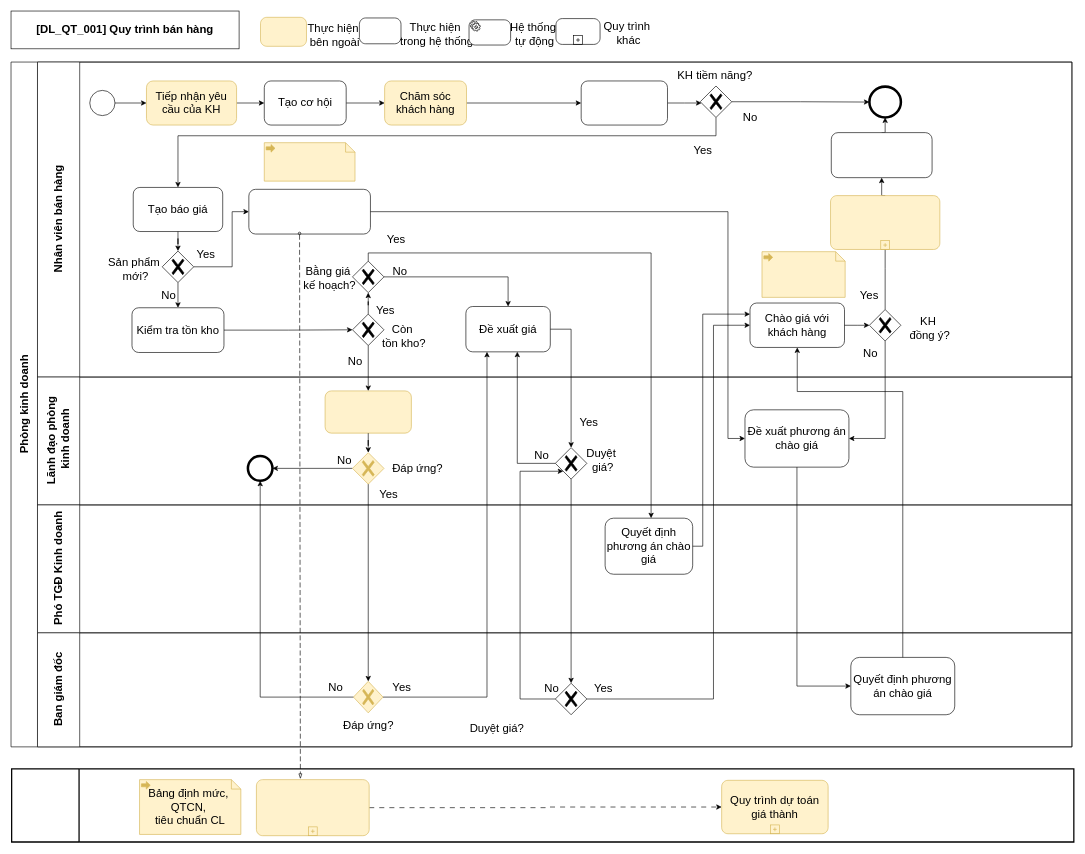
Image size: 1085x854. Some labels were removed from this diagram. Here are the shapes that lost their labels. From the top down, the box of each, then its label:
(581, 80, 667, 125): Ghi nhận kết quả chăm sóc
(264, 142, 355, 181): Phiếu yêu cầu
(831, 132, 932, 178): Xác nhận đơn bán
(248, 189, 370, 234): Tạo yêu cầu Thiết kế sản phẩm mẫu
(830, 195, 940, 249): Quy trình thương thảo hợp đồng
(761, 251, 845, 297): Mẫu báo giá đã được ký duyệt
(324, 390, 411, 433): Đánh giá khả năng đáp ứng
(256, 779, 369, 836): Quy trình thiết kế sản phẩm mẫu
(11, 768, 1074, 842): Phòng ban khác
